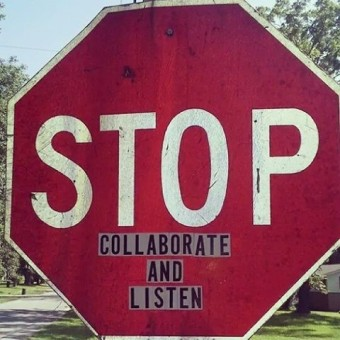SS: (9, 3, 338, 339)
